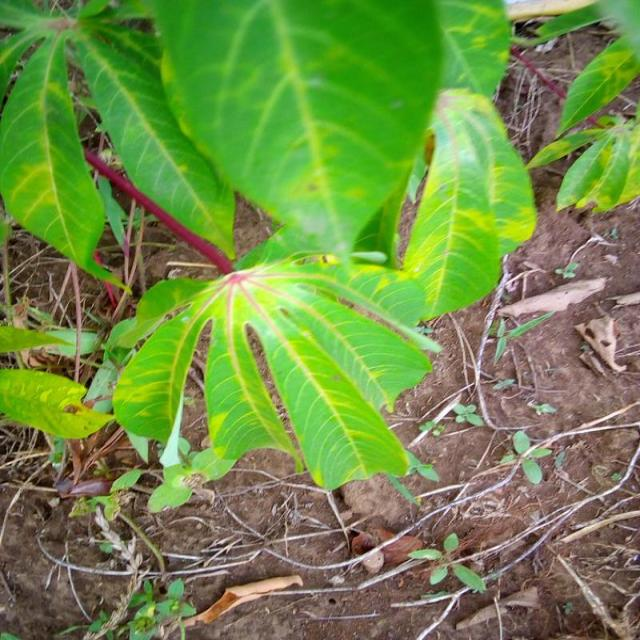cassava leaf: (1, 0, 537, 509), (140, 0, 446, 268), (111, 253, 438, 498), (399, 85, 537, 322), (0, 365, 114, 440)
